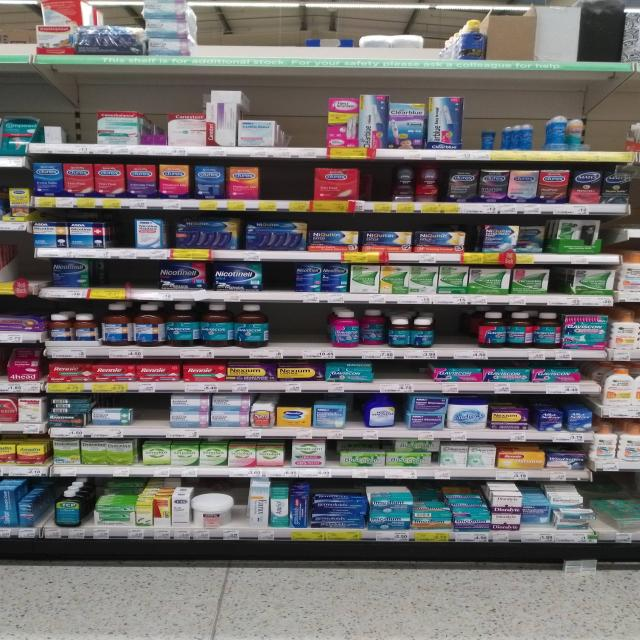void: (272, 305, 328, 359), (192, 0, 236, 66), (241, 1, 285, 66), (278, 96, 324, 157), (377, 1, 418, 69), (288, 2, 330, 68), (421, 1, 458, 69), (335, 0, 373, 66), (261, 167, 311, 212), (438, 306, 480, 358), (0, 10, 37, 64), (590, 111, 628, 162), (377, 362, 430, 392), (360, 166, 392, 213), (120, 261, 156, 299), (67, 100, 91, 154), (138, 394, 166, 438), (90, 259, 118, 300), (266, 263, 294, 300), (110, 215, 134, 258), (550, 265, 575, 306), (18, 261, 46, 294)
